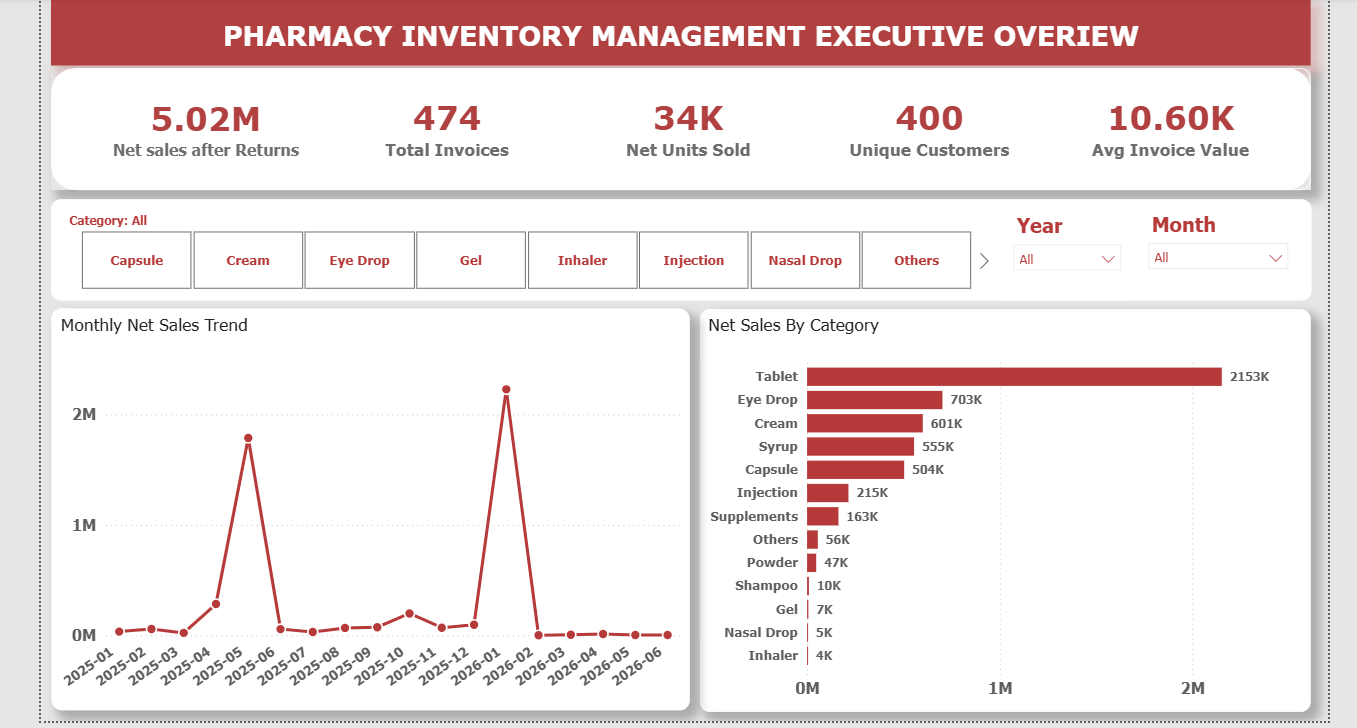

The dashboard page shown, as its layout file describes it:
{"tool":"powerbi","page":{"name":"Executive Overview","canvas":[1280,720],"ordinal":1},"visuals":[{"type":"shape","box":[10,0,1253.9,67.2],"z":0},{"type":"textbox","box":[10,0,1253.9,67.2],"z":1000},{"type":"shape","box":[10,308.5,635.7,400.6],"z":3000},{"type":"shape","box":[655.6,309.7,608.3,400.6],"z":4000},{"type":"shape","box":[10.1,69.4,1253.7,121.5],"z":5000},{"type":"cardVisual","fields":{"Data":["KPI Measures.Net Sales After Returns","KPI Measures.Total Invoices","KPI Measures.Net Units Sold","KPI Measures.Unique Customers","KPI Measures.Average Invoice Value"]},"box":[27.5,69.4,1236.3,121.5],"z":6000},{"type":"clusteredBarChart","title":"Net Sales By Category","fields":{"Category":["MedicineInventory.Category"],"Y":["KPI Measures.Net Sales After Returns"]},"box":[655.6,309.7,624.5,400.6],"z":7000},{"type":"lineChart","title":"Monthly Net Sales Trend","fields":{"Category":["DateTable.Year Month"],"Y":["KPI Measures.Net Sales After Returns"]},"box":[11.2,309.7,634.4,399.3],"z":8000},{"type":"shape","box":[10.3,200,1254,101.1],"z":9000},{"type":"slicer","fields":{"Values":["MedicineInventory.Category"]},"box":[11.5,205.7,942.5,95.4],"z":10000},{"type":"slicer","fields":{"Values":["DateTable.Year"]},"box":[954.1,205.3,134.3,95.8],"z":11000},{"type":"slicer","fields":{"Values":["DateTable.Month"]},"box":[1088.5,204,166.7,95.8],"z":12000}]}

Visuals, with their boxes on the page's 1280x720 design canvas (x1, y1, x2, y2). These are canvas units, not pixel positions in the 1357x728 screenshot, which may show the page scaled, cropped or inside an application window:
shape: rect(10, 0, 1264, 67)
textbox: rect(10, 0, 1264, 67)
shape: rect(10, 308, 646, 709)
shape: rect(656, 310, 1264, 710)
shape: rect(10, 69, 1264, 191)
cardVisual - KPI Measures.Net Sales After Returns x KPI Measures.Total Invoices: rect(28, 69, 1264, 191)
"Net Sales By Category" clusteredBarChart: rect(656, 310, 1280, 710)
"Monthly Net Sales Trend" lineChart: rect(11, 310, 646, 709)
shape: rect(10, 200, 1264, 301)
slicer - MedicineInventory.Category: rect(12, 206, 954, 301)
slicer - DateTable.Year: rect(954, 205, 1088, 301)
slicer - DateTable.Month: rect(1088, 204, 1255, 300)
